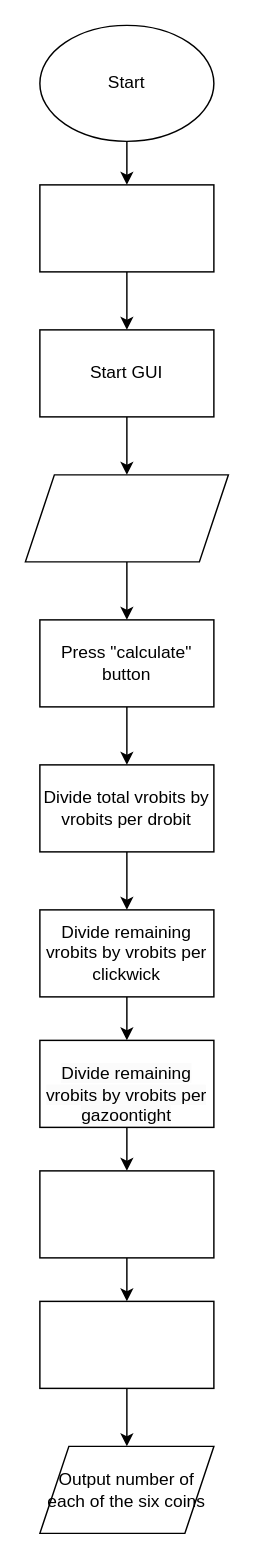
This 254x1559 diagram has some shape labels left out. Here are the shapes that lost their labels. From the top down, the centre of each, then its label:
At (126,227): "Declare and initialize constants for coin values".
At (126,517): "User types in number of Vrobits".
At (126,1213): "Divide remaining vrobits by vrobits per frazoint".
At (126,1344): "Divide remaining vrobits by vrobits per blointoint".
